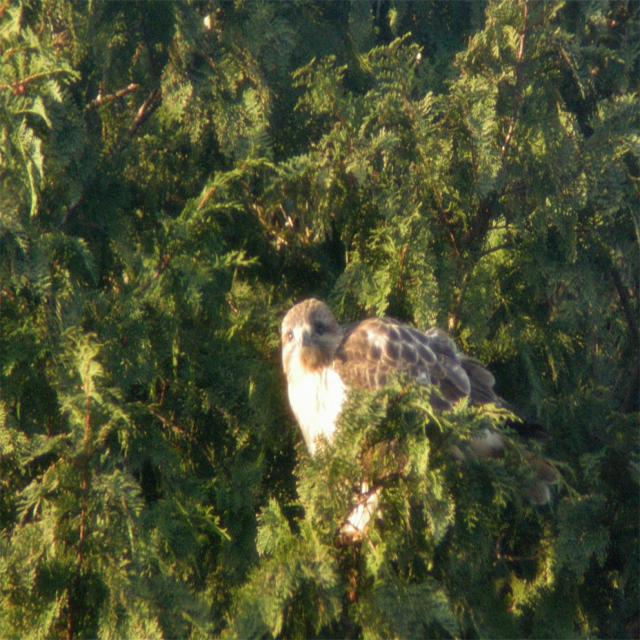bird: (273, 296, 486, 459)
